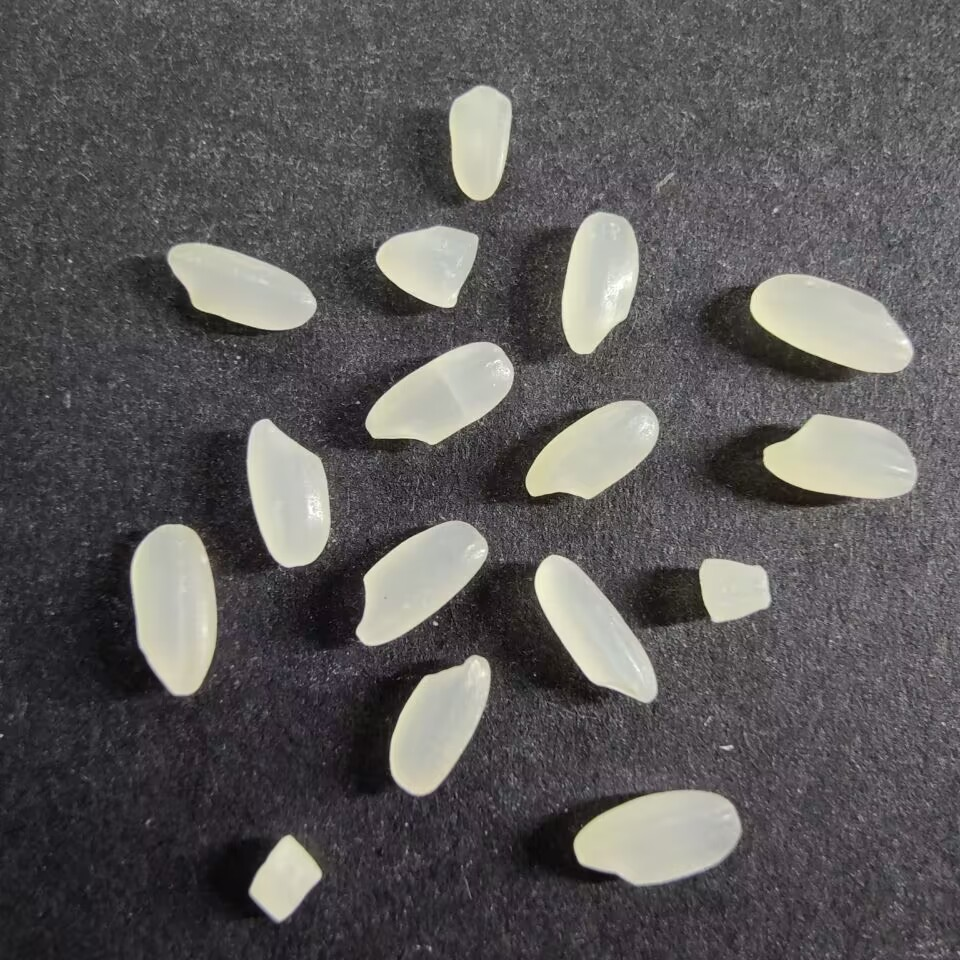broken: (370, 219, 481, 311), (445, 85, 516, 203), (246, 831, 327, 929), (693, 553, 773, 625)
rice: (532, 552, 659, 708), (348, 518, 487, 649), (746, 269, 916, 374), (362, 340, 516, 450), (572, 788, 744, 886), (128, 522, 220, 698), (759, 411, 923, 503), (161, 241, 320, 335), (389, 653, 492, 798), (521, 398, 662, 503), (245, 417, 335, 570), (561, 207, 640, 356)
